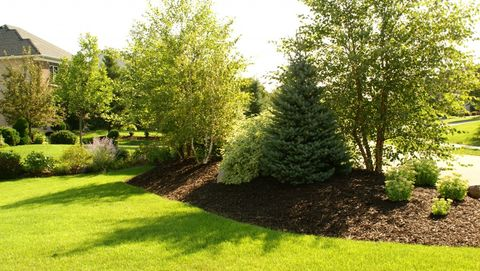tree: (286, 1, 473, 176), (123, 2, 241, 162), (262, 58, 351, 184), (55, 33, 116, 153), (1, 47, 54, 144)
